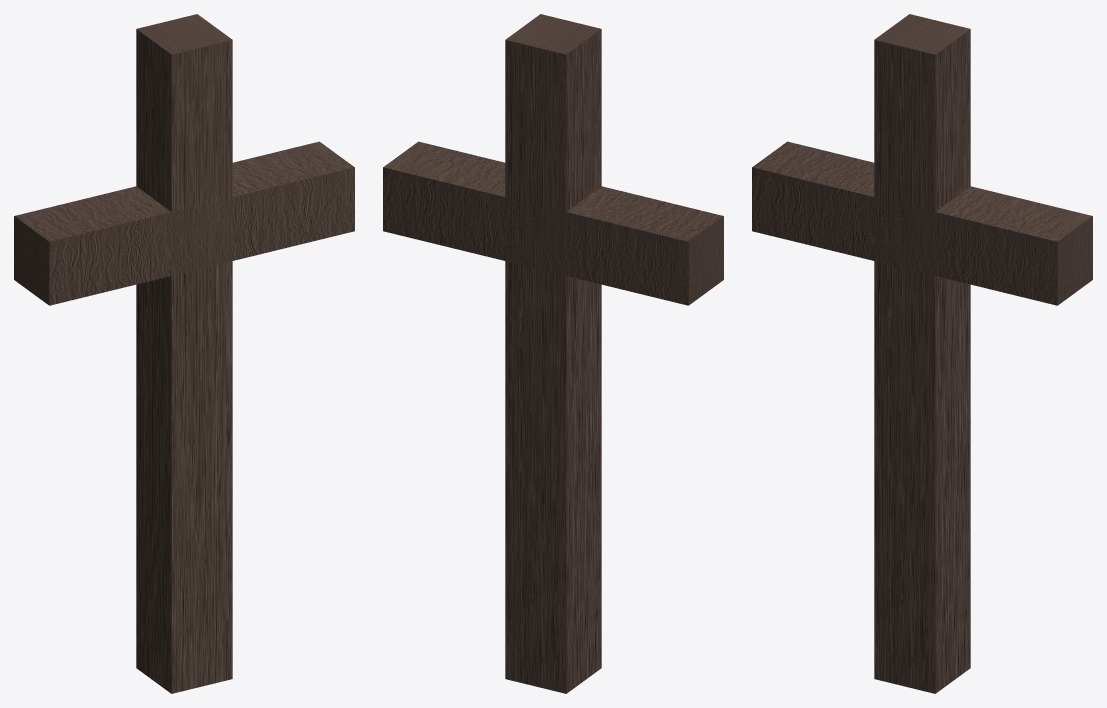
File: haka.FBX
3 renders of one model, left to right at view 1: azimuth 30°, elevation 25°; view 2: azimuth 150°, elevation 25°; view 3: azimuth 330°, elevation 25°, orthographic.
Parts seen in each view (by area): view 1: Box001, Box002; view 2: Box001, Box002; view 3: Box001, Box002.
Part boxes in pixels (bbox=[...]): Box001: bbox=[136, 14, 232, 693]; Box002: bbox=[14, 141, 354, 305]; Box001: bbox=[505, 14, 601, 693]; Box002: bbox=[383, 141, 723, 305]; Box001: bbox=[874, 14, 970, 693]; Box002: bbox=[752, 141, 1092, 305].
Size of the model in its own units: 50 by 100 by 10.
2 materials, 2 textured.
